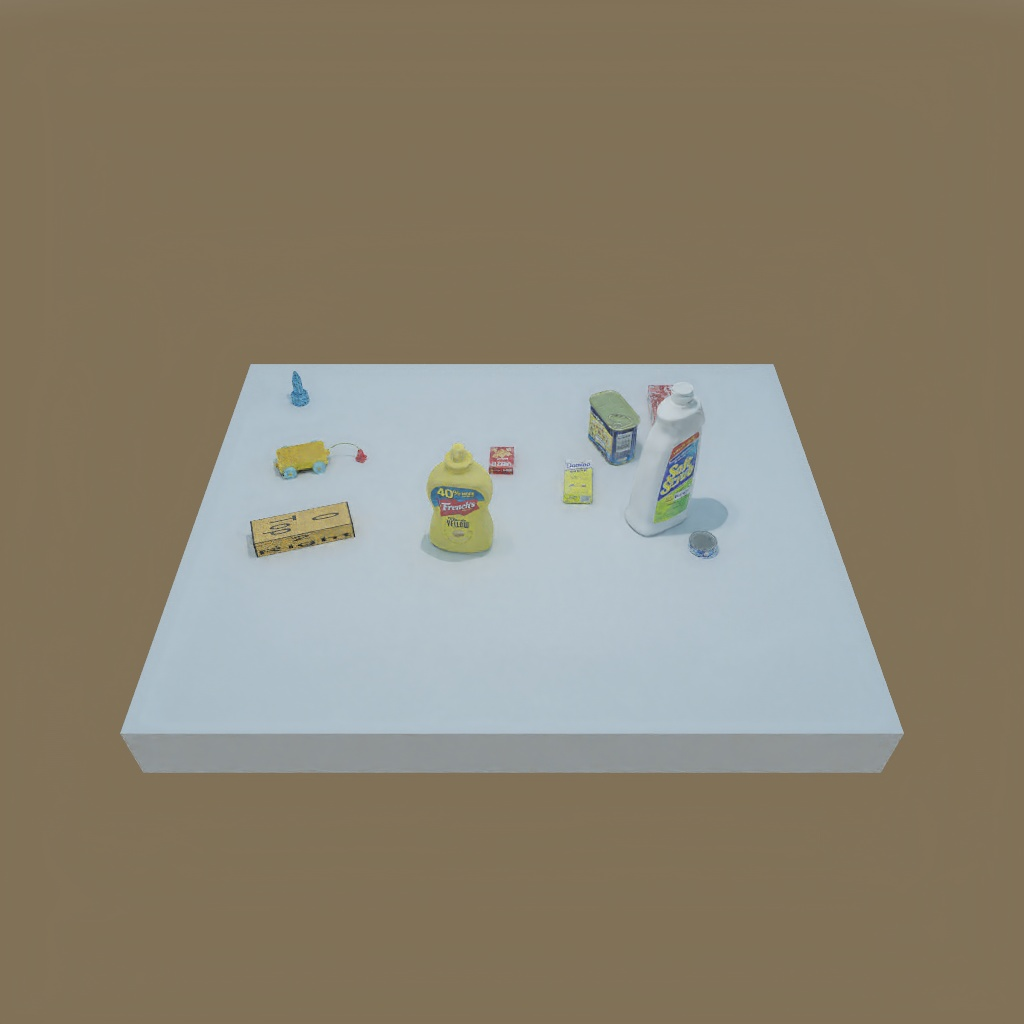gelatin_box: (646, 378, 676, 414)
jenga: (250, 499, 358, 552)
mustard_bottle: (418, 443, 502, 553)
potted_meat_can: (586, 389, 642, 465)
